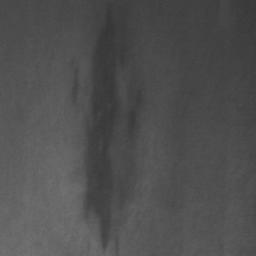Inclusion: (83, 9, 118, 244)
